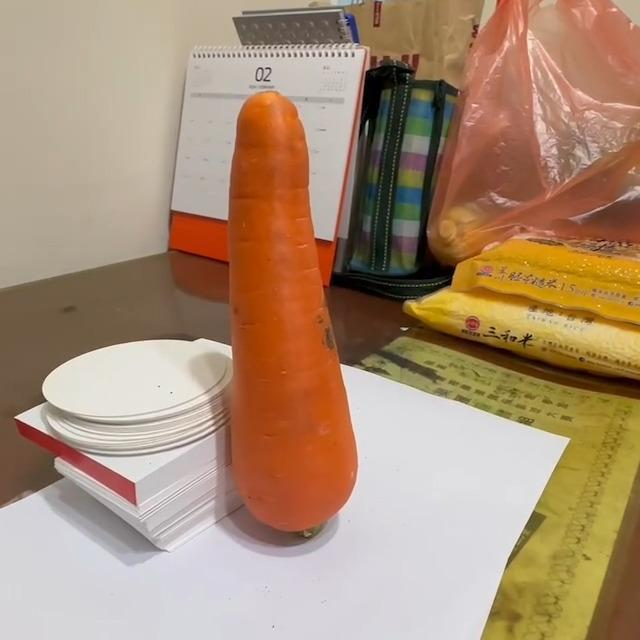carrot: (227, 88, 364, 536)
